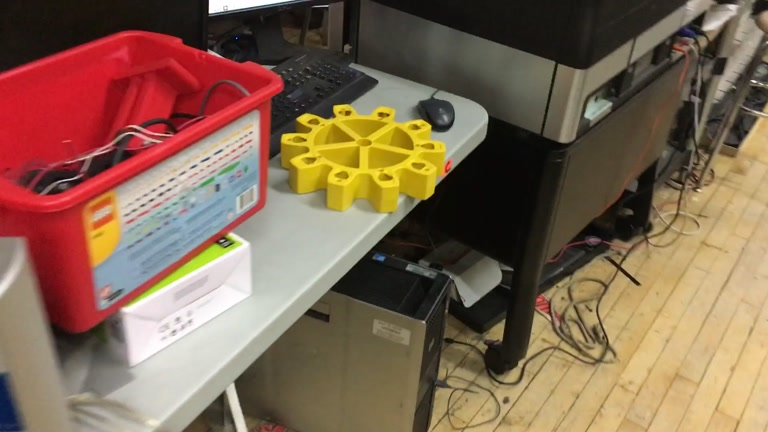gear: (280, 105, 446, 213)
